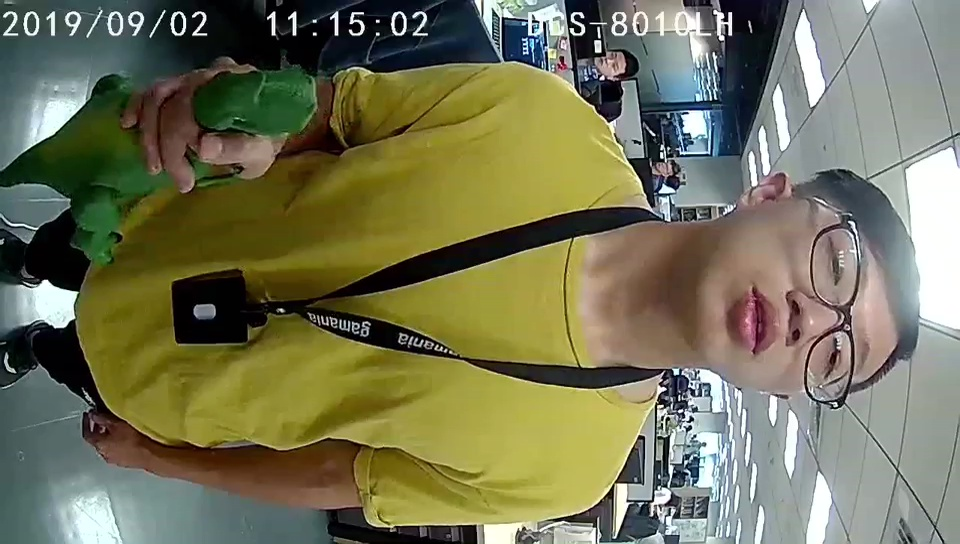rex: (65, 68, 317, 264)
